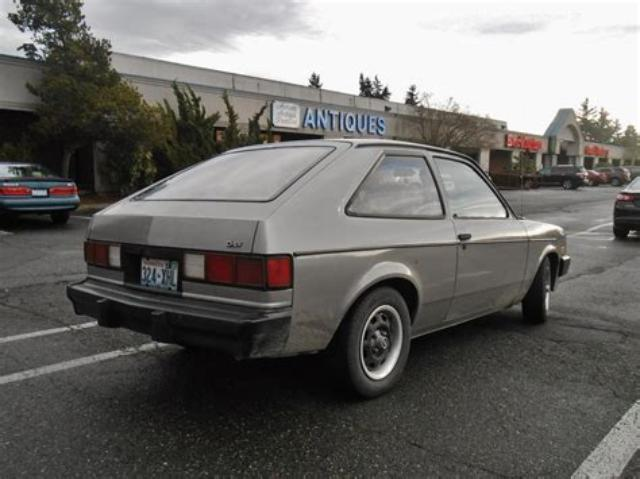chevette-1983: (68, 140, 570, 397)
